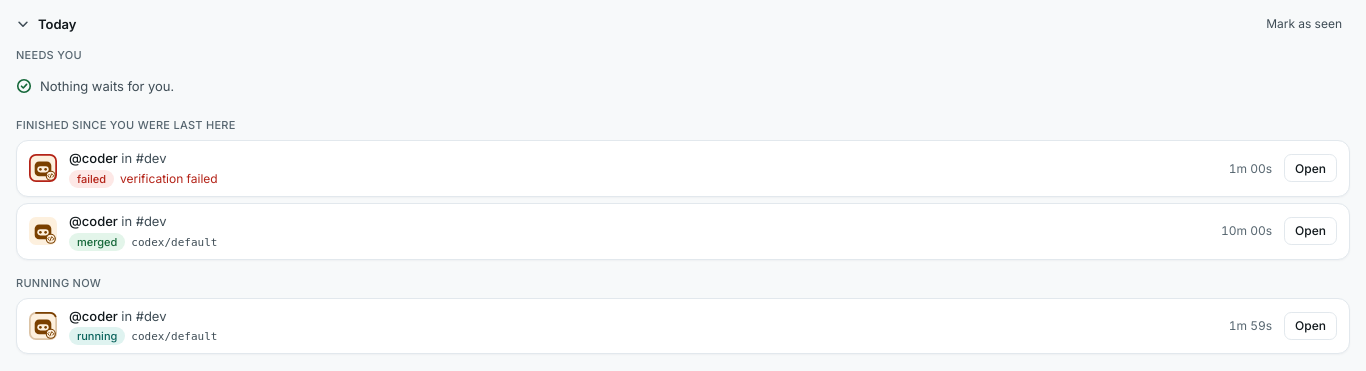
Scenario: TodayBrief › collapses and remembers the choice
This screenshot has width=1366, height=371.
Click the button "Today": click(57, 24) [12,4,1250,44]
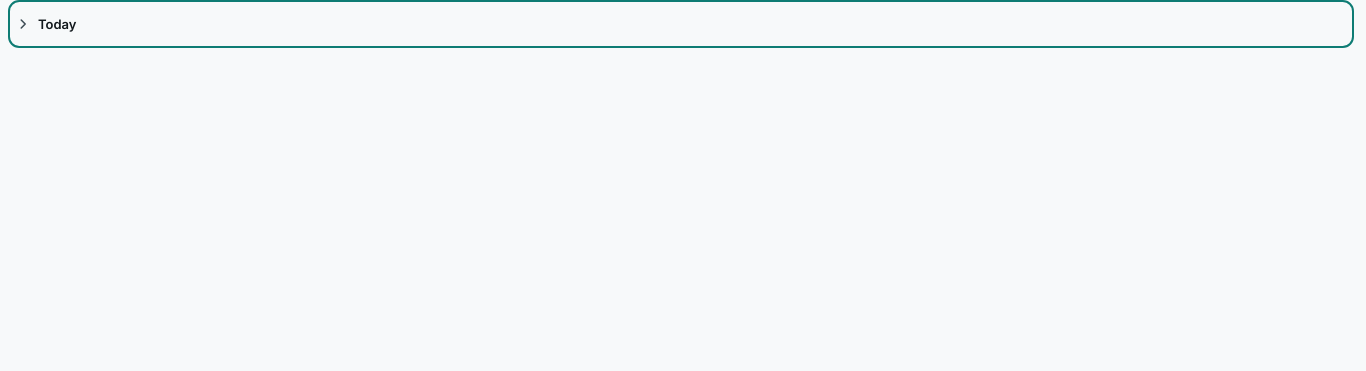
Result: the heading "Needs you" is gone
